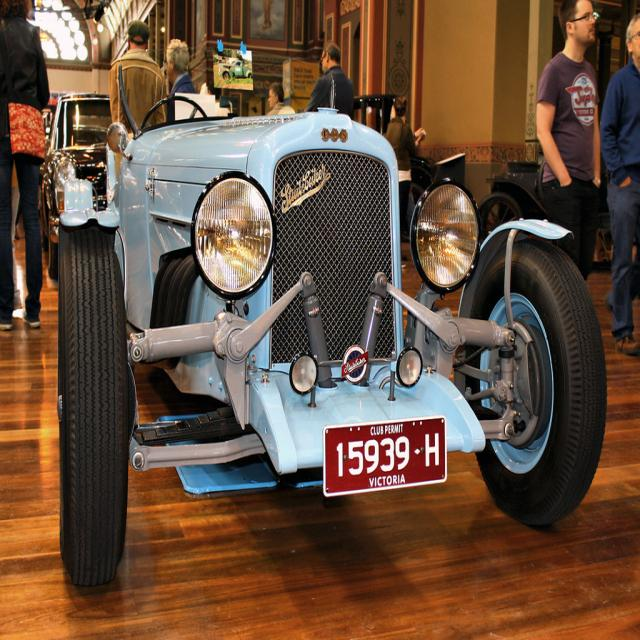car: (52, 77, 632, 551)
